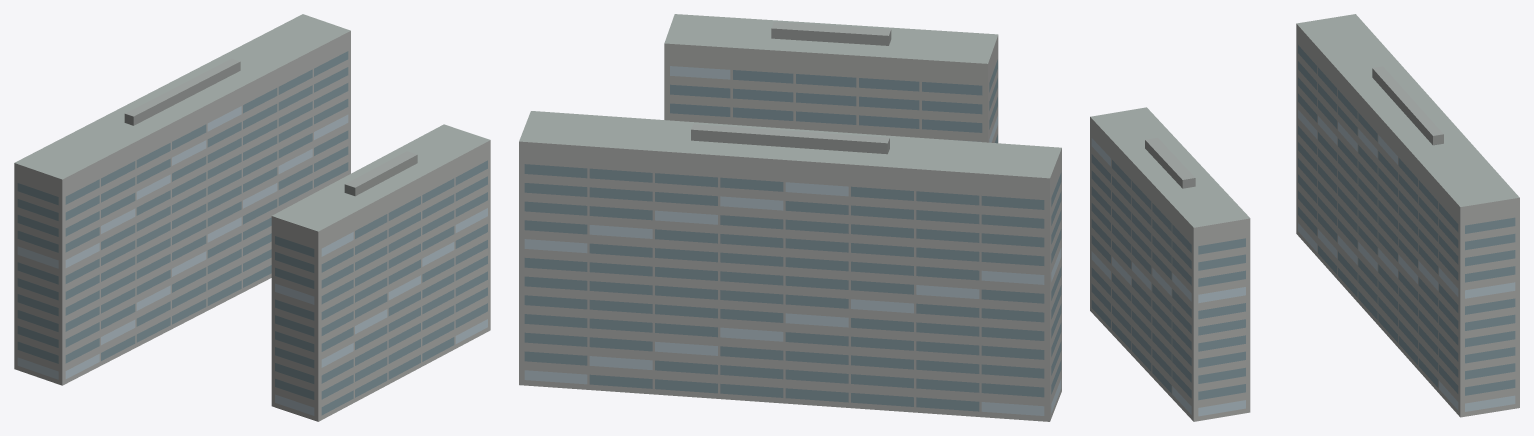
Rendered from apt-a14319201.glb.
3 views of the same model, side by side, from view 1: azimuth 30°, elevation 25°; view 2: azimuth 150°, elevation 25°; view 3: azimuth 270°, elevation 25° (orthographic). The views are drawn at different scales.
Parts seen in each view (by area): view 1: apt-a14319201; view 2: apt-a14319201; view 3: apt-a14319201.
Boxes of the visible parts, box(x1,y1,x2,y2) form: apt-a14319201: box(14, 14, 490, 421); apt-a14319201: box(519, 14, 1061, 421); apt-a14319201: box(1090, 14, 1519, 421).
Size of the model in its own units: 79.91 by 41.43 by 73.42.
